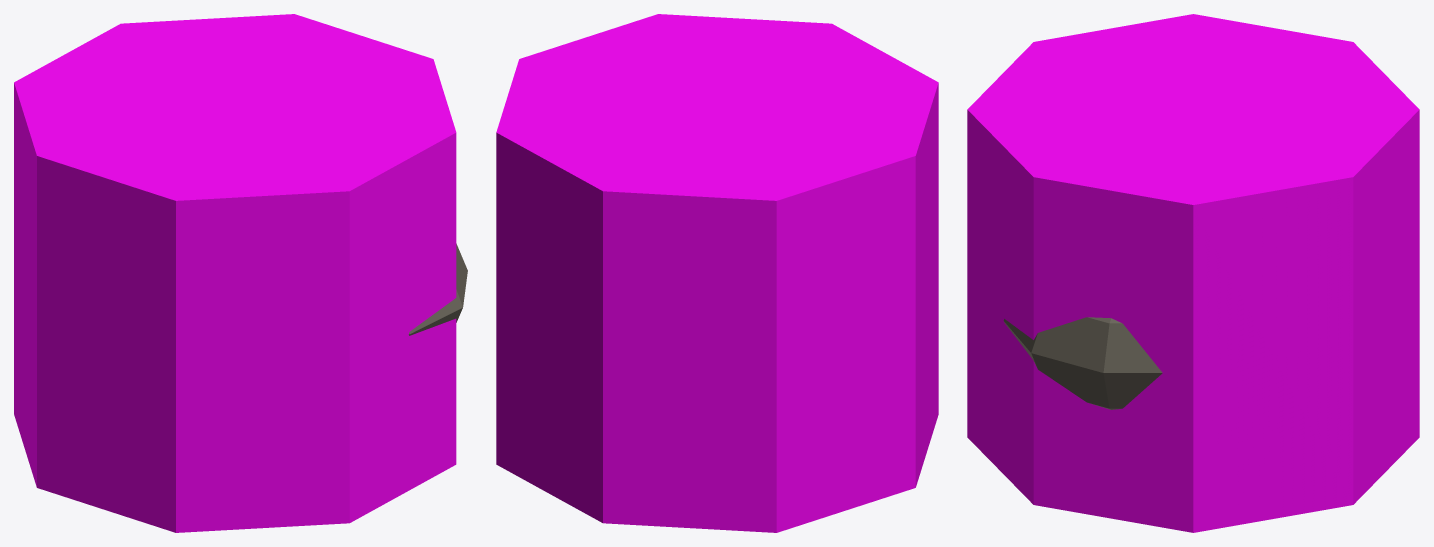
Rendered from boulder.glb.
3 views of the same model, side by side, from view 1: azimuth 30°, elevation 25°; view 2: azimuth 150°, elevation 25°; view 3: azimuth 270°, elevation 25° (orthographic).
Parts seen in each view (by area): view 1: Col_main, RockB; view 2: Col_main; view 3: Col_main, RockB.
Boxes of the visible parts, x1,y1,x2,y2 form: Col_main: [14, 14, 456, 532]; RockB: [408, 243, 467, 335]; Col_main: [496, 14, 938, 532]; Col_main: [967, 14, 1419, 532]; RockB: [1003, 317, 1162, 409].
Size of the model in its own units: 2.5 by 2.29 by 2.5.
